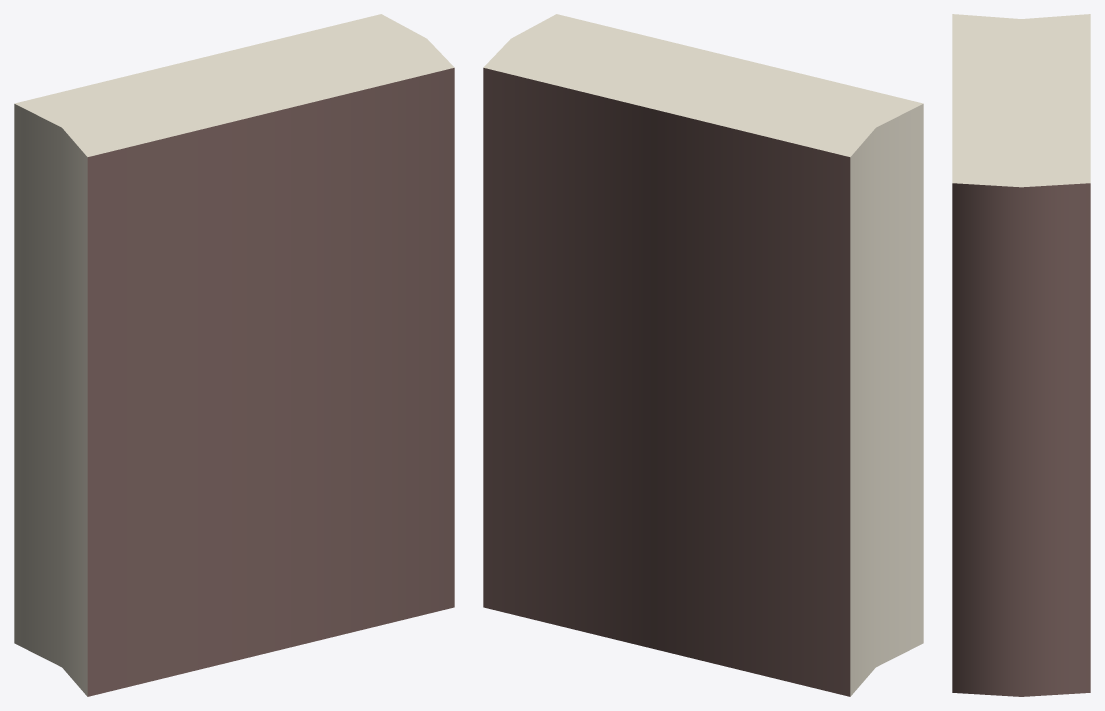
Rendered from book_lbrown.fbx.
3 views of the same model, side by side, from view 1: azimuth 30°, elevation 25°; view 2: azimuth 150°, elevation 25°; view 3: azimuth 270°, elevation 25° (orthographic). The views are drawn at different scales.
Parts seen in each view (by area): view 1: Book; view 2: Book; view 3: Book.
Part boxes in pixels (bbox=[...]): Book: bbox=[14, 14, 454, 696]; Book: bbox=[483, 14, 923, 696]; Book: bbox=[952, 14, 1090, 696].
Size of the model in its own units: 7.4 by 21.9 by 30.03.
